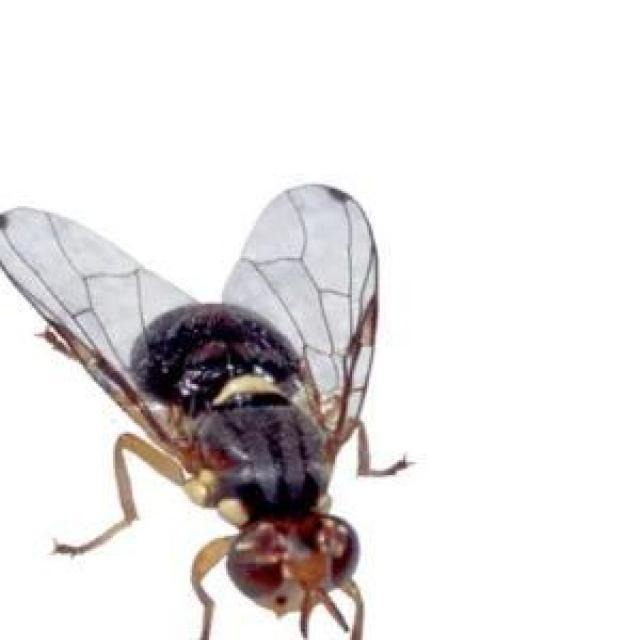Anthracnose: (0, 185, 414, 638)
